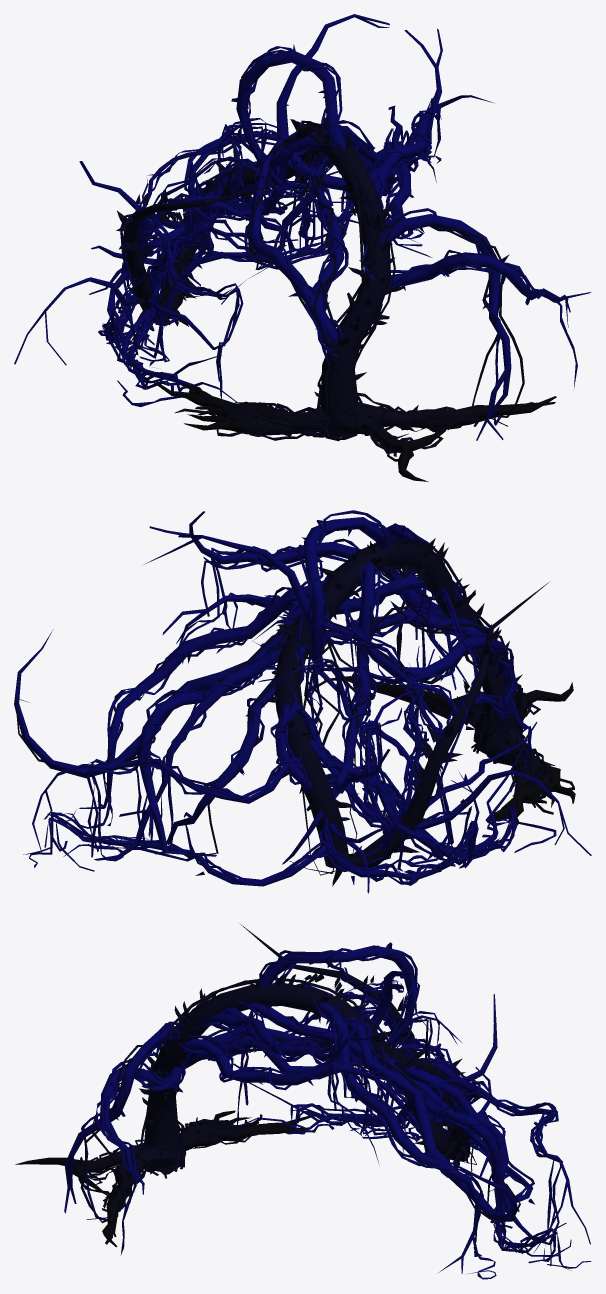
The model's file is Sm_SpikeTree_09.FBX.
3 renders of one model, top to bottom at view 1: azimuth 30°, elevation 25°; view 2: azimuth 150°, elevation 25°; view 3: azimuth 270°, elevation 25°, orthographic. The views are drawn at different scales.
Parts seen in each view (by area): view 1: Sm_SpikeTree_09; view 2: Sm_SpikeTree_09; view 3: Sm_SpikeTree_09.
Boxes of the visible parts, <box> form: Sm_SpikeTree_09: <box>14,14,590,481</box>; Sm_SpikeTree_09: <box>14,510,591,893</box>; Sm_SpikeTree_09: <box>15,924,591,1279</box>.
Size of what is drawn, in the model's own units: 981 by 1067 by 547.
